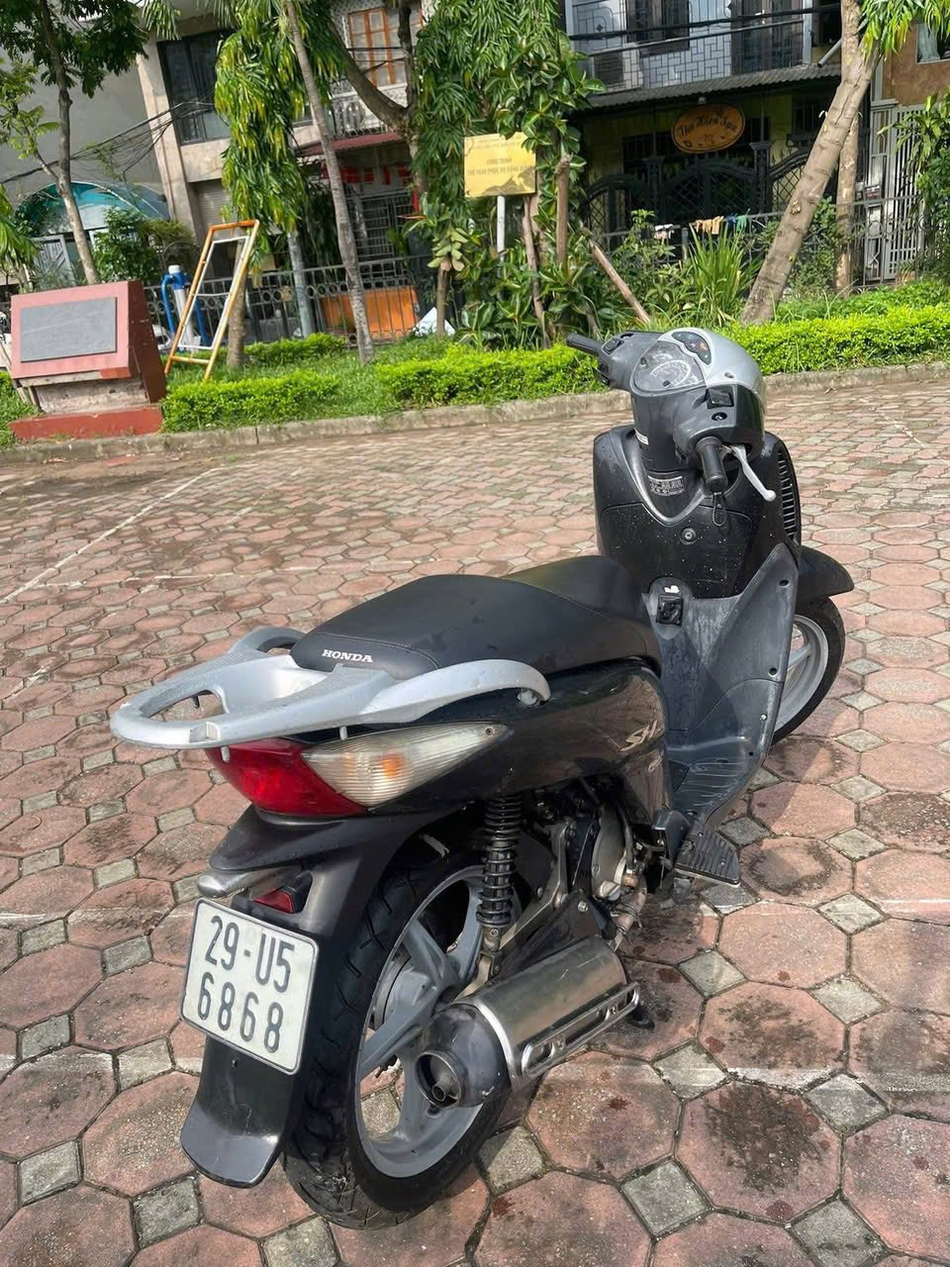bien_so: (175, 893, 328, 1080)
